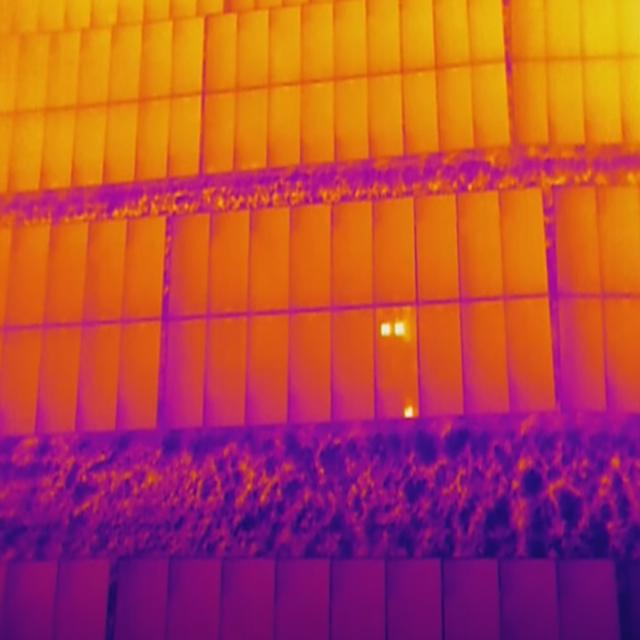hotspot group: (378, 318, 409, 342), (402, 403, 416, 421)
panel with hotspots: (374, 303, 421, 425)
